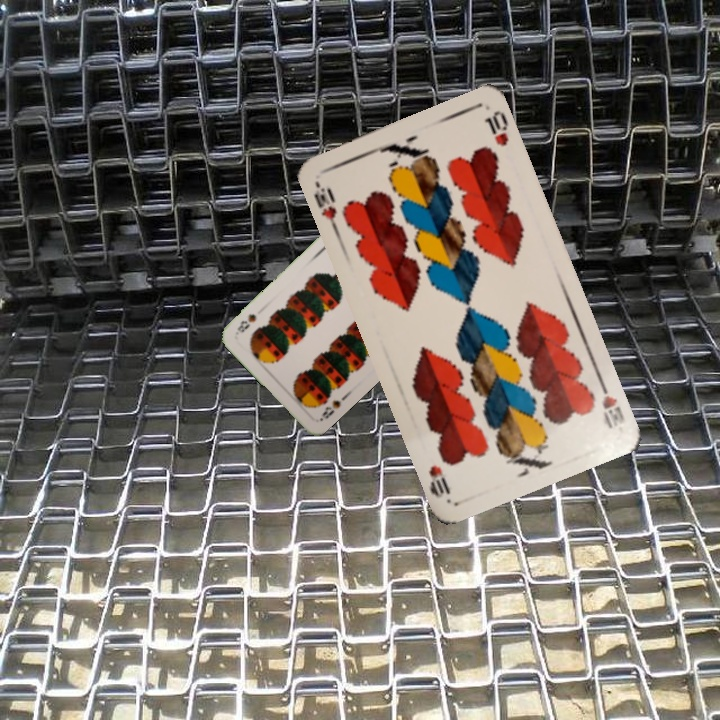H10: (594, 375, 627, 432), (309, 177, 341, 234)
S8: (315, 396, 343, 424)
